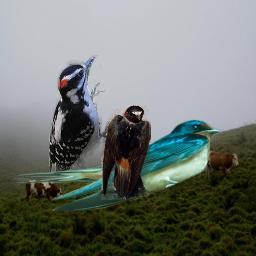Swallow: (13, 119, 221, 213), (101, 105, 151, 200)
Woodpecker: (49, 55, 115, 177)
